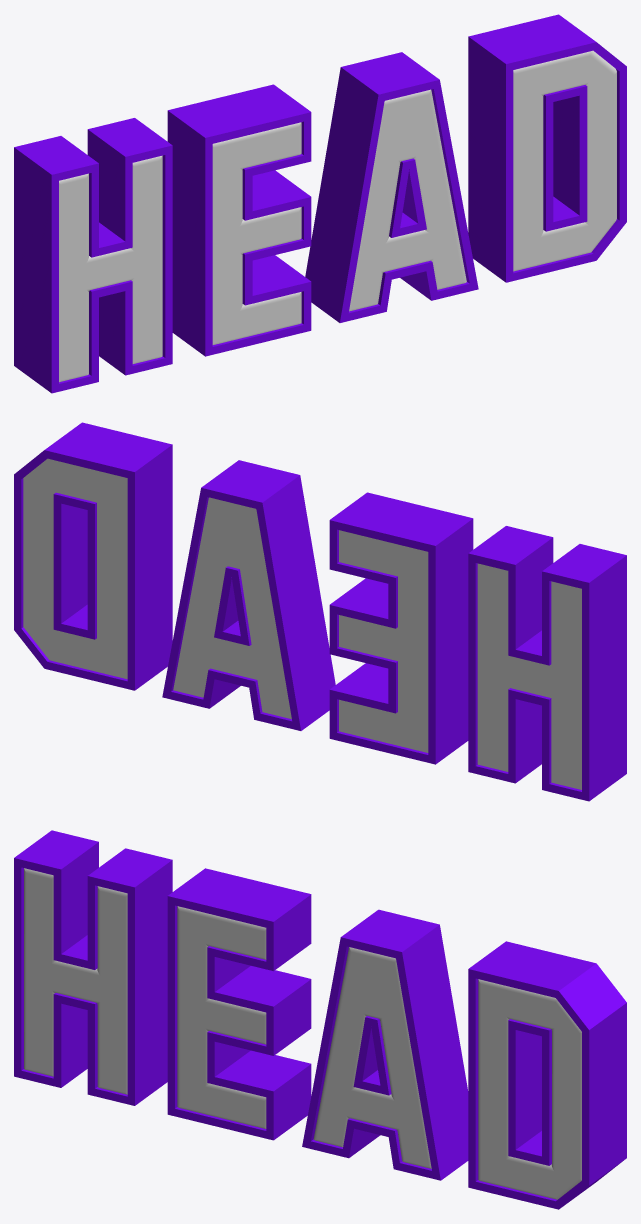
Rendered from Head3DText.fbx.
3 renders of one model, top to bottom at view 1: azimuth 30°, elevation 25°; view 2: azimuth 150°, elevation 25°; view 3: azimuth 330°, elevation 25°, orthographic.
Visible parts, largest first — view 1: Extrusion Model.000, Extrusion Model; view 2: Extrusion Model.000, Extrusion Model; view 3: Extrusion Model.000, Extrusion Model.
Boxes of the visible parts, <box> form: Extrusion Model.000: <box>14,14,626,393</box>; Extrusion Model: <box>59,50,616,382</box>; Extrusion Model.000: <box>14,422,626,801</box>; Extrusion Model: <box>23,458,581,789</box>; Extrusion Model.000: <box>14,830,626,1209</box>; Extrusion Model: <box>24,868,581,1199</box>.
Bounding box in the file's own units: 41.89 × 15.28 × 4.77.
